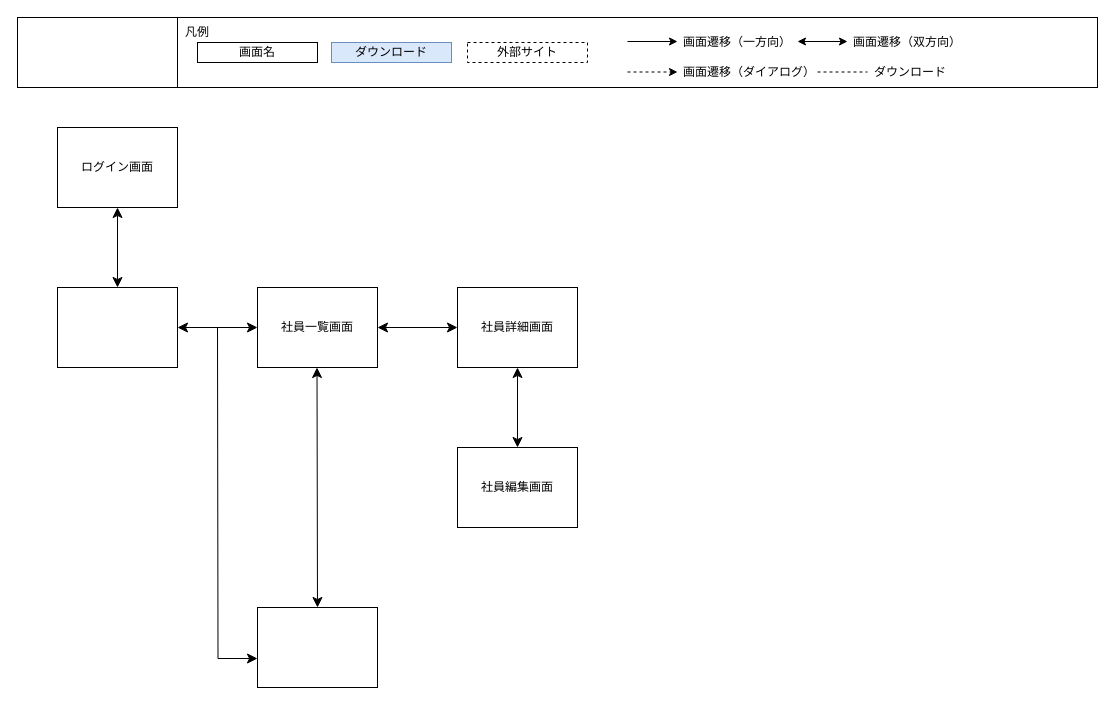
Image size: 1115x705. Some labels were removed from this diagram. The box of each missing label's shape, as (x1, y1, x2, y2) in pixels:
トップページ: (56, 286, 178, 368)
画面遷移図: (16, 16, 178, 88)
社員登録画面: (256, 606, 378, 688)
